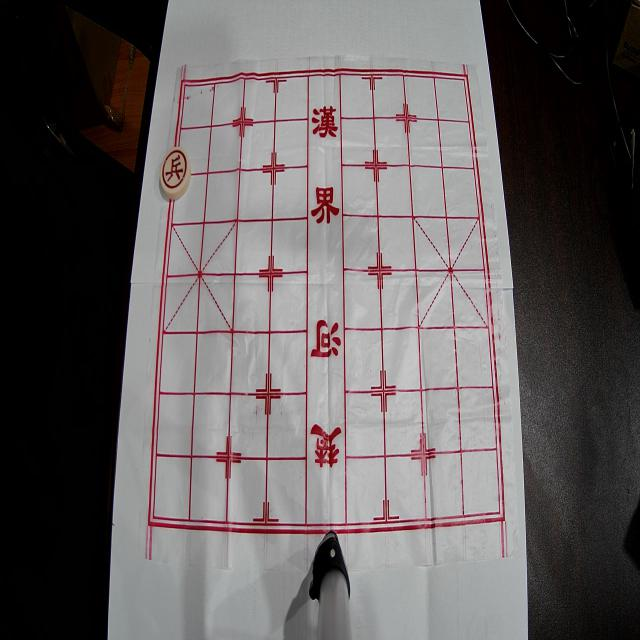red-soldier: (160, 146, 191, 200)
